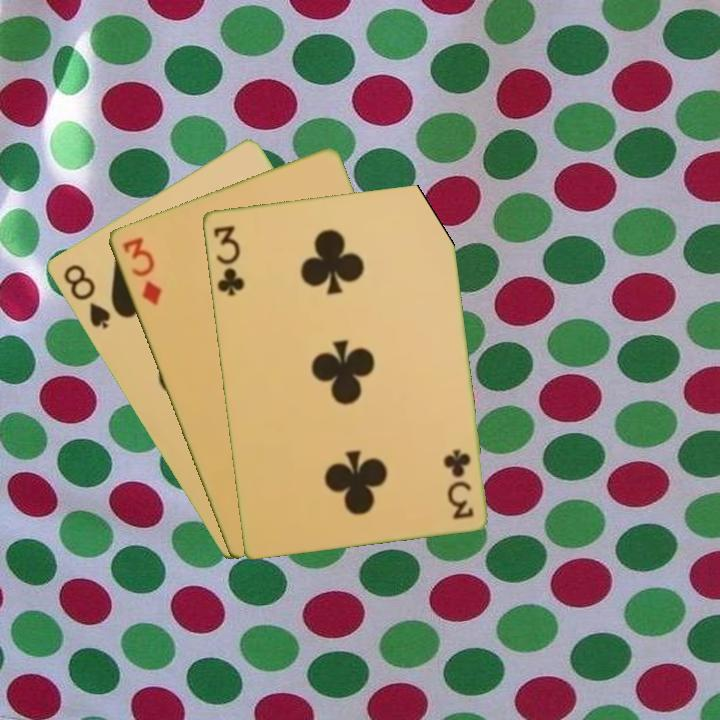3c: (209, 221, 247, 299), (442, 445, 476, 522)
3d: (118, 233, 164, 308)
8s: (59, 260, 113, 332)
